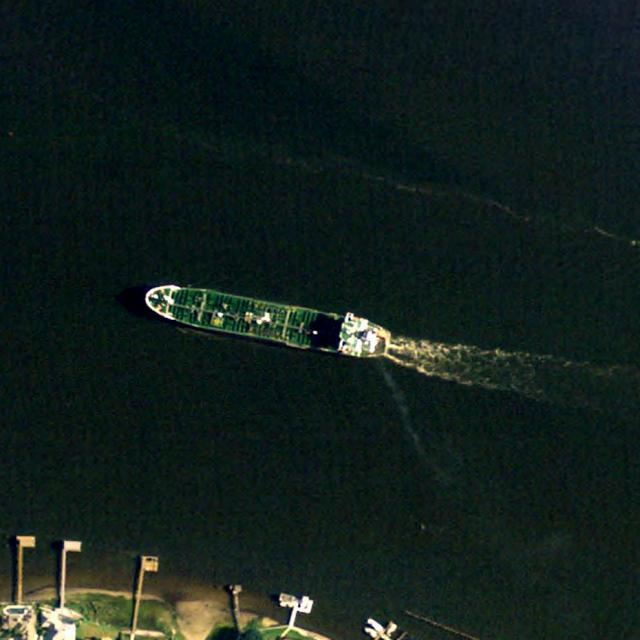Oil Tanker: (140, 275, 394, 365)
